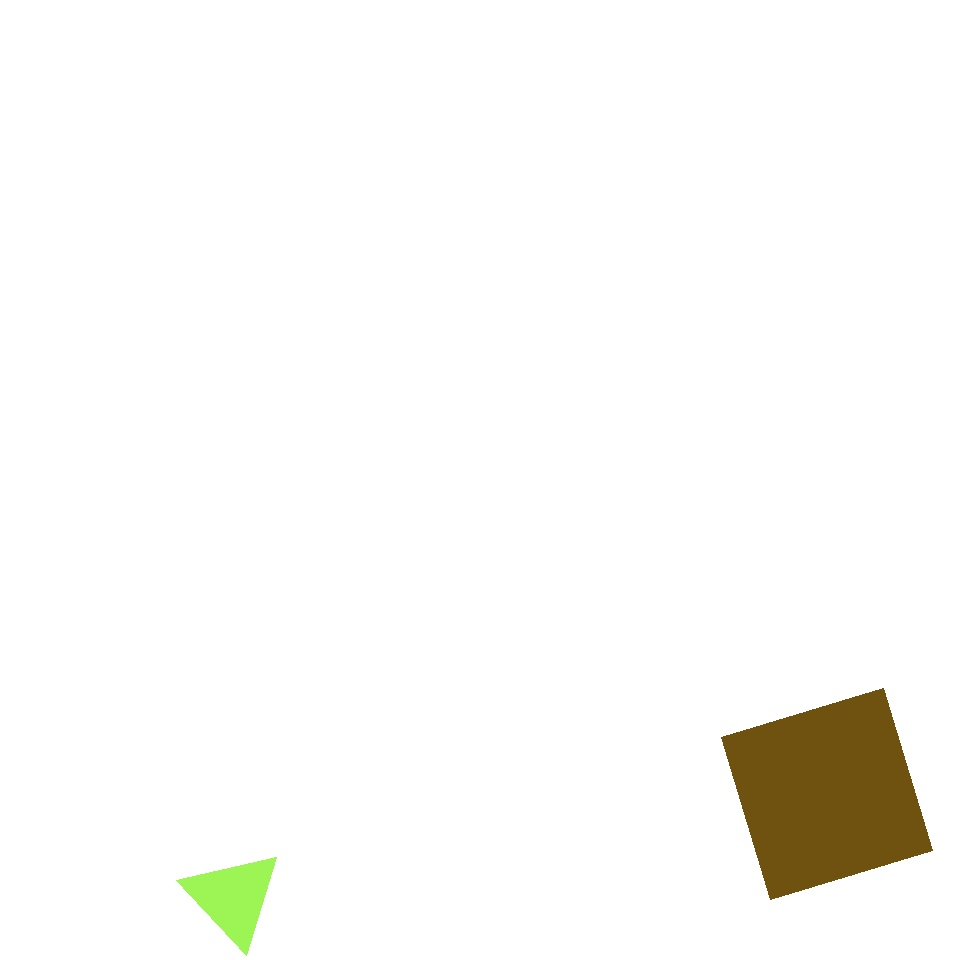circle: (183, 849, 283, 947)
square: (136, 403, 494, 760), (722, 688, 932, 899)
triangle: (454, 496, 800, 840), (362, 54, 568, 262)
